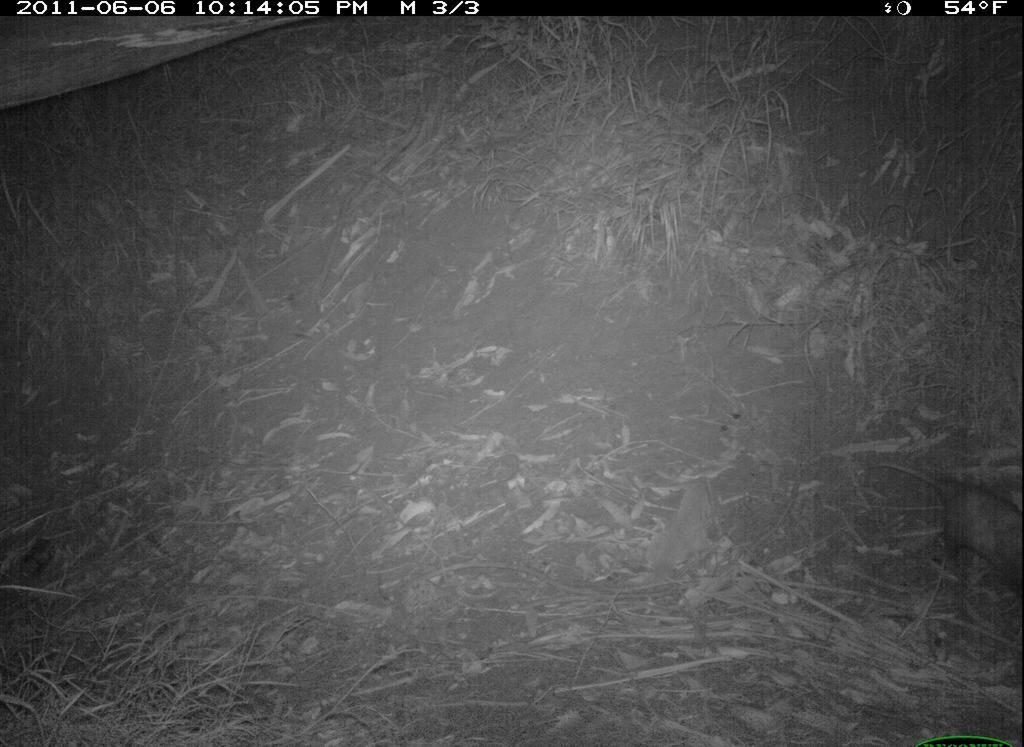opossum: (902, 446, 1023, 628)
